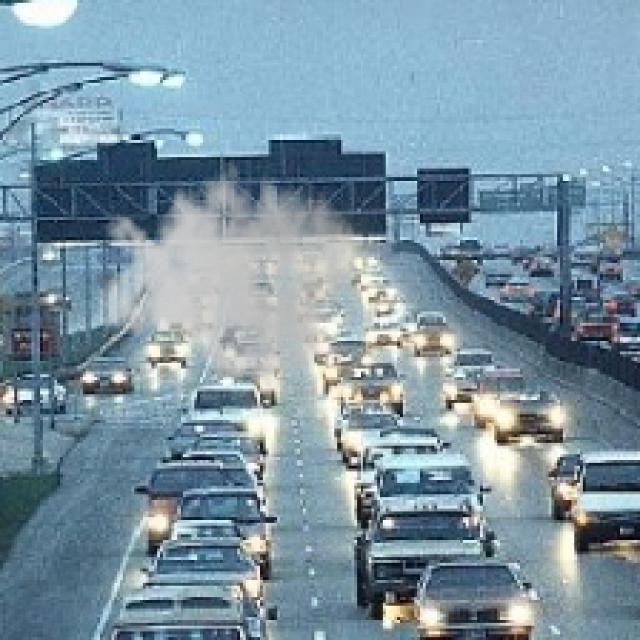smoke: (94, 149, 360, 397)
